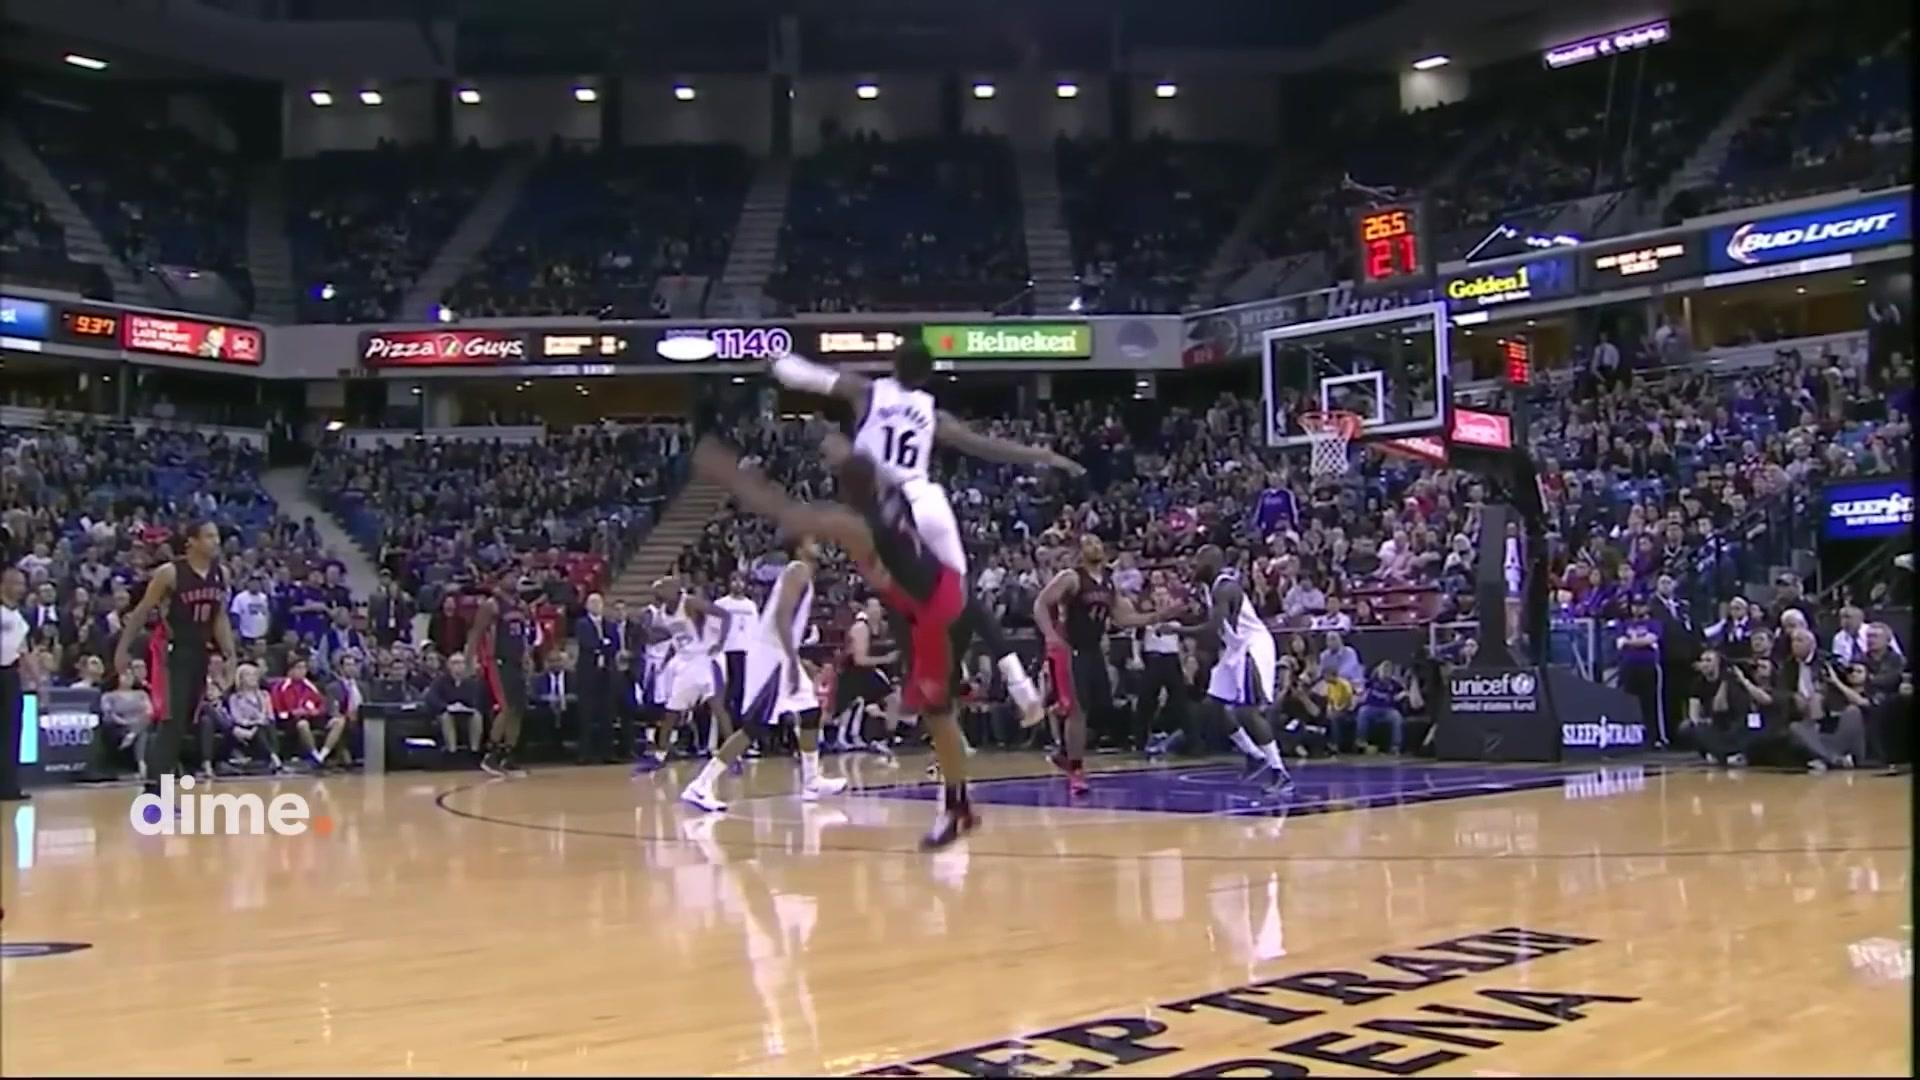foul: (769, 338, 1081, 825)
